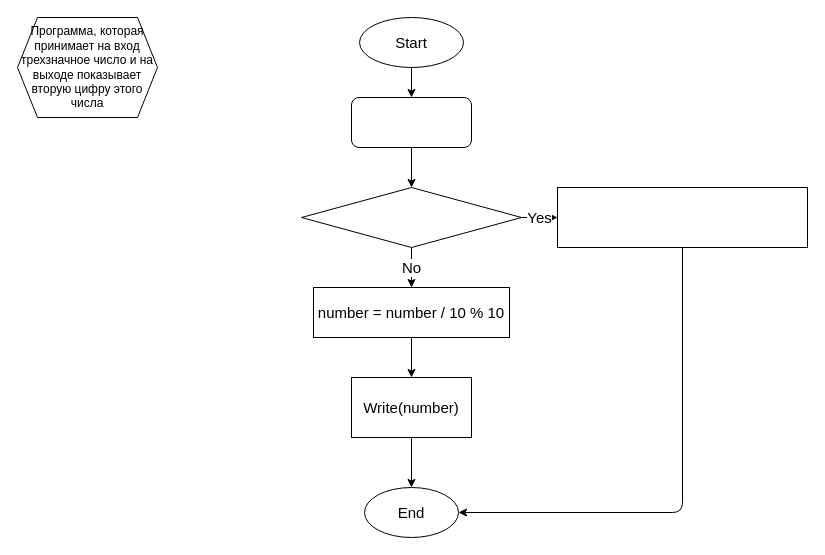
Some shapes in this 825 by 555 pixel diagram are drawn without their labels. Here are the shapes that lost their labels. From the top down, the box of each, then its label:
(350, 96, 472, 148): number amount
(300, 186, 522, 248): amount < 3 || amount > 3
(556, 186, 808, 248): Write("Вы ввели не трезначное число")
